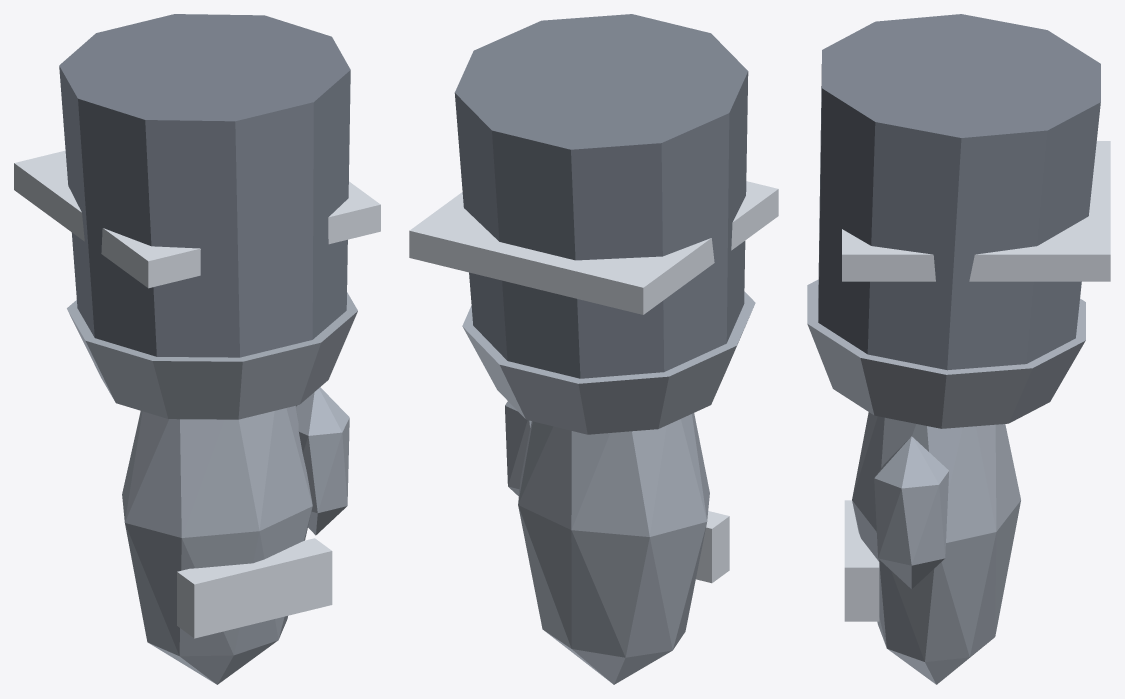
File: gear_steel_gauntlets_arm_r.glb
3 renders of one model, left to right at view 1: azimuth 30°, elevation 25°; view 2: azimuth 150°, elevation 25°; view 3: azimuth 270°, elevation 25°, orthographic.
Parts seen in each view (by area): view 1: gear_steel_gauntlets_arm_r; view 2: gear_steel_gauntlets_arm_r; view 3: gear_steel_gauntlets_arm_r.
Part boxes in pixels (<box>): gear_steel_gauntlets_arm_r: <box>14,14,380,684</box>; gear_steel_gauntlets_arm_r: <box>409,14,778,684</box>; gear_steel_gauntlets_arm_r: <box>807,14,1110,684</box>.
Size of the model in its own units: 0.118 by 0.2731 by 0.122.
